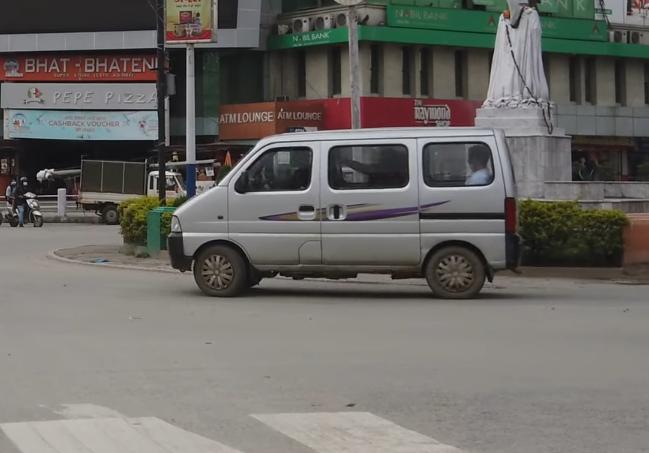scooter: (8, 190, 45, 229)
transport_vehicle: (72, 155, 194, 226)
van: (169, 122, 521, 311)
